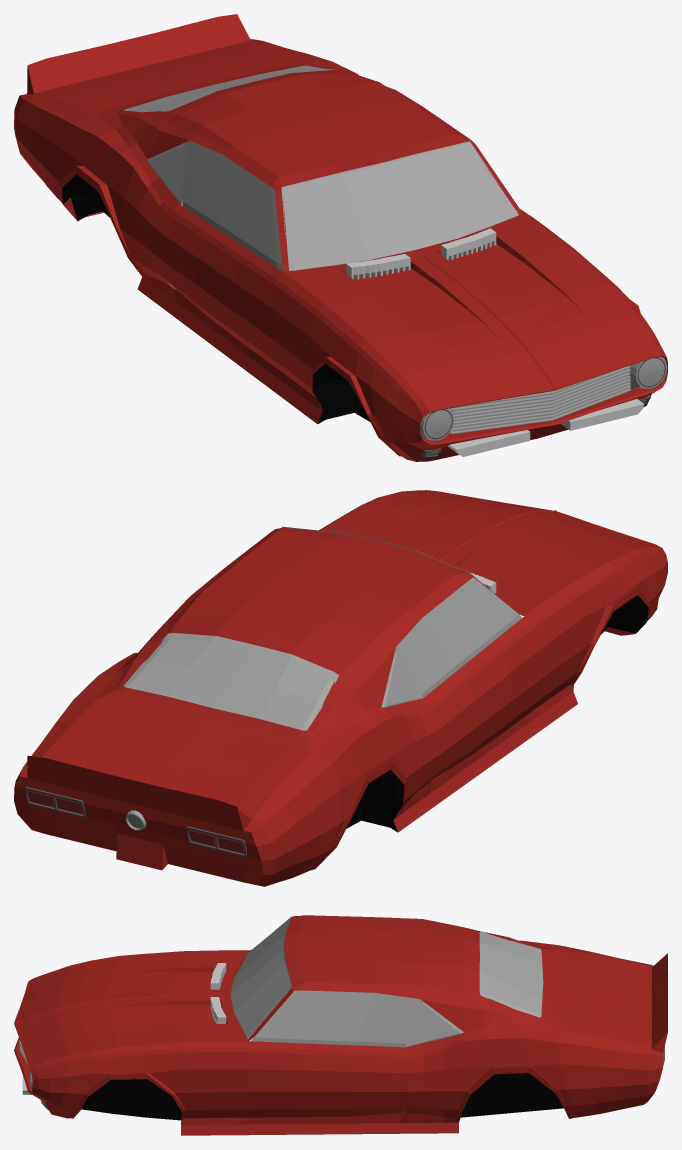
File: Chasis.obj
The picture shows the model from 3 angles, top to bottom: view 1: azimuth 30°, elevation 25°; view 2: azimuth 150°, elevation 25°; view 3: azimuth 270°, elevation 25°; orthographic projection. The views are drawn at different scales.
Parts seen in each view (by area): view 1: Carroceria_Plano, Parabrisas_Ad_Plano.005, Pueratas_Plano.008, Ventana_1_Plano.013, Rejilla_Plano.002, Plano.002_Plano.019, Cubo, Parabrisas_Tr_Plano.015, Faro_2_Círculo.001, Ventana_2_Plano.010, Carroceria_2_Plano.003, Marco_Parabrisad_Ad_Plano.006; view 2: Carroceria_Plano, Parabrisas_Tr_Plano.015, Pueratas_Plano.008, Ventana_1_Plano.013, Luz_Tr_Plano.021, Marco_Parabrisad_Tr_Plano.016, Ventana_2_Plano.010; view 3: Carroceria_Plano, Pueratas_Plano.008, Ventana_1_Plano.013, Parabrisas_Ad_Plano.005, Parabrisas_Tr_Plano.015, Ventana_2_Plano.010, Cubo, Marco_Ventana_2_Plano.012, Marco_Parabrisad_Tr_Plano.016.
Part boxes in pixels (<box>): Carroceria_Plano: <box>14,14,667,461</box>; Parabrisas_Ad_Plano.005: <box>283,143,517,270</box>; Pueratas_Plano.008: <box>159,206,530,375</box>; Ventana_1_Plano.013: <box>182,140,283,271</box>; Rejilla_Plano.002: <box>450,365,630,434</box>; Plano.002_Plano.019: <box>448,399,644,456</box>; Cubo: <box>346,228,496,279</box>; Parabrisas_Tr_Plano.015: <box>126,66,333,111</box>; Faro_2_Círculo.001: <box>425,358,664,437</box>; Ventana_2_Plano.010: <box>148,145,185,200</box>; Carroceria_2_Plano.003: <box>424,379,663,441</box>; Marco_Parabrisad_Ad_Plano.006: <box>281,141,518,270</box>; Carroceria_Plano: <box>14,490,667,886</box>; Parabrisas_Tr_Plano.015: <box>126,634,336,728</box>; Pueratas_Plano.008: <box>423,616,551,778</box>; Ventana_1_Plano.013: <box>396,577,522,697</box>; Luz_Tr_Plano.021: <box>25,787,246,857</box>; Marco_Parabrisad_Tr_Plano.016: <box>124,633,338,730</box>; Ventana_2_Plano.010: <box>385,654,420,705</box>; Carroceria_Plano: <box>14,915,667,1135</box>; Pueratas_Plano.008: <box>235,950,405,1117</box>; Ventana_1_Plano.013: <box>251,990,419,1047</box>; Parabrisas_Ad_Plano.005: <box>230,917,291,1038</box>; Parabrisas_Tr_Plano.015: <box>481,932,541,1016</box>; Ventana_2_Plano.010: <box>408,1004,459,1044</box>; Cubo: <box>210,963,226,1023</box>; Marco_Ventana_2_Plano.012: <box>405,999,463,1047</box>; Marco_Parabrisad_Tr_Plano.016: <box>479,931,543,1017</box>.
Bounding box in the file's own units: 3.92 × 2.33 × 9.85.
